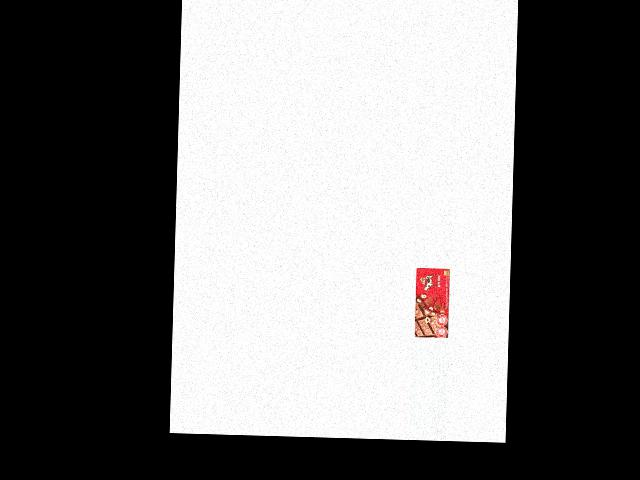chocolate: (414, 267, 450, 338)
